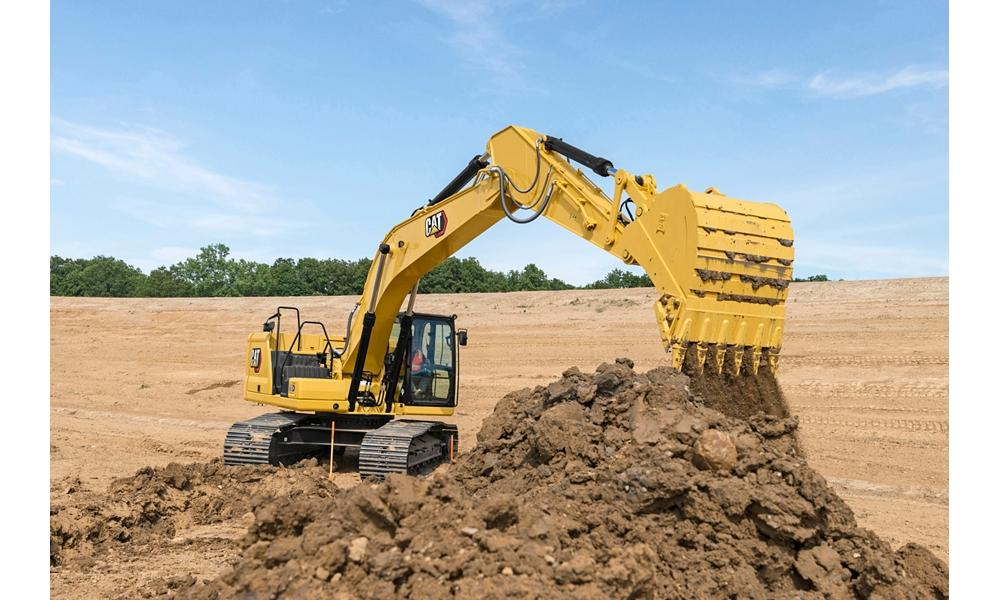excavator: (245, 118, 776, 422)
